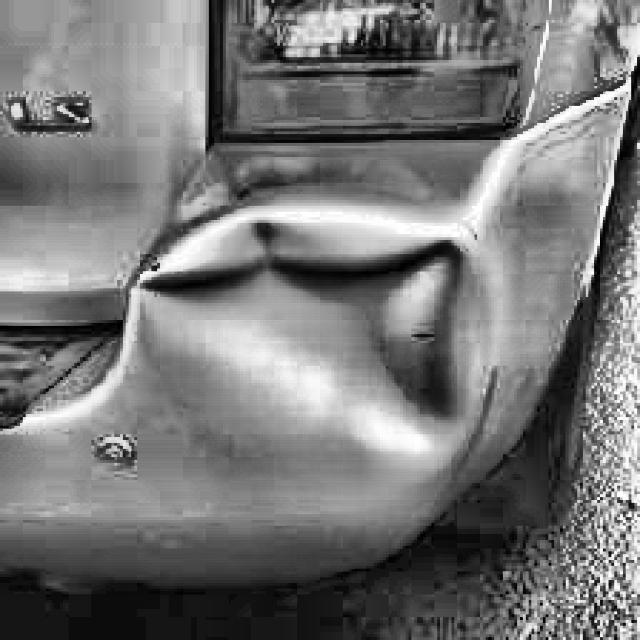bumper_dent: (144, 212, 475, 488)
